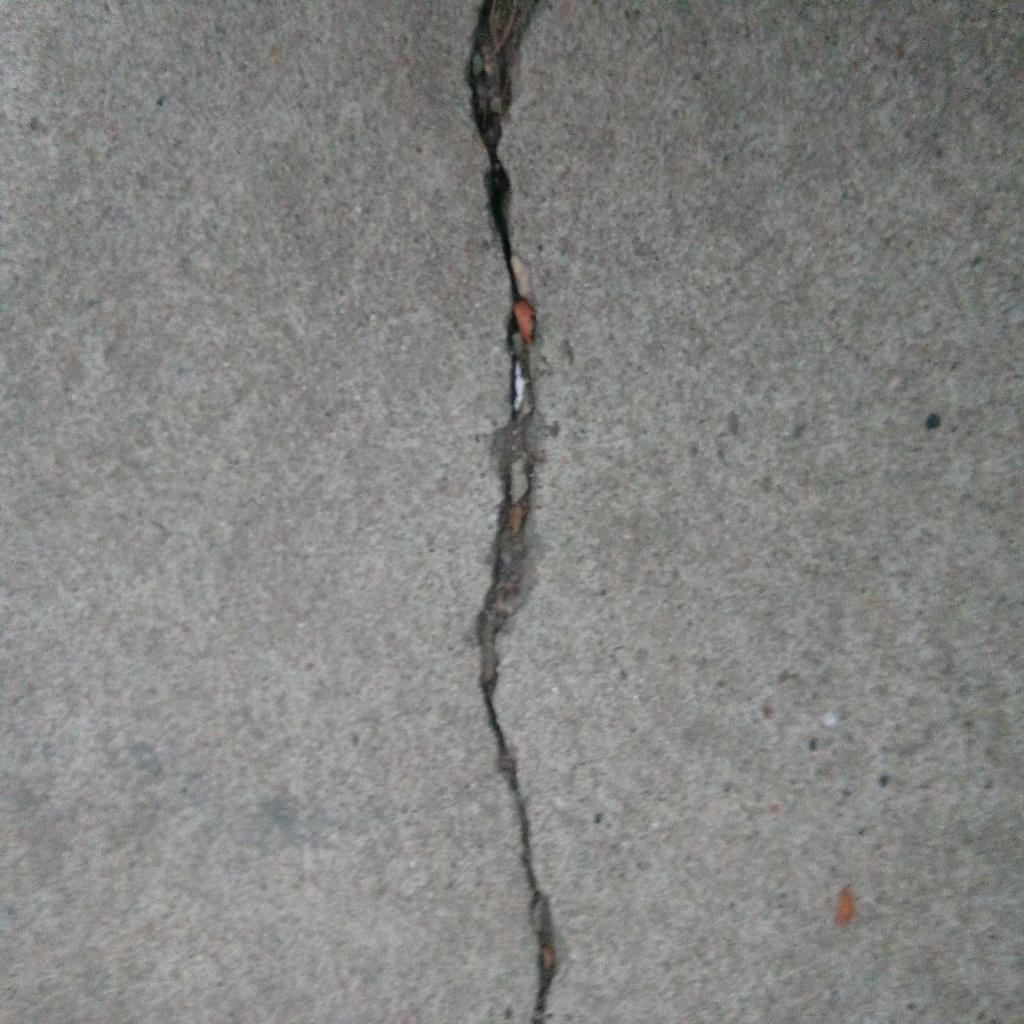Crack: (465, 1, 570, 1024)
